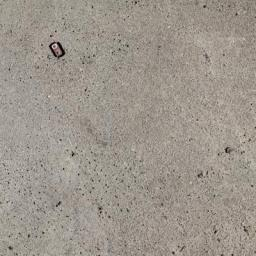FOD: (47, 40, 69, 61)
